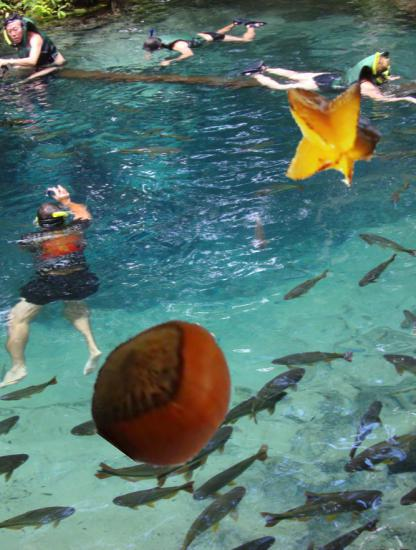Carambula: (273, 75, 391, 193)
Nut: (90, 316, 239, 465)
